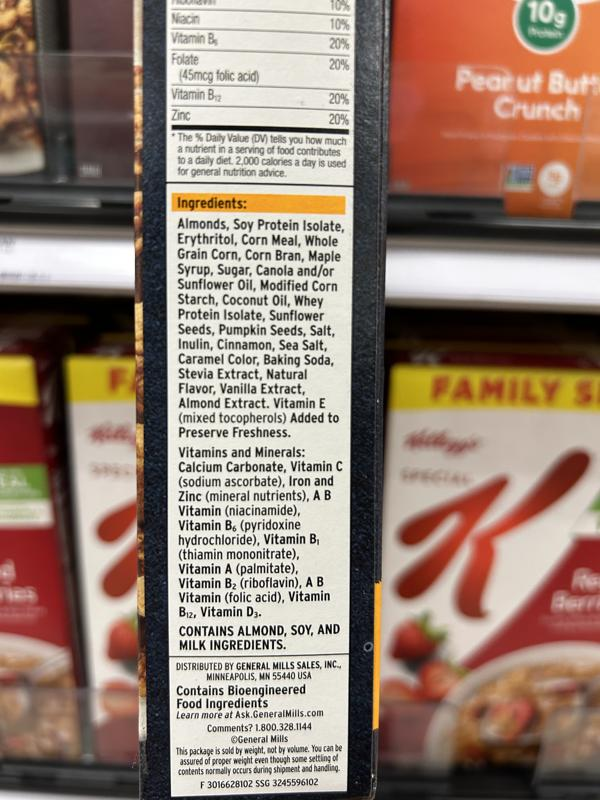ingredients: (169, 192, 349, 441)
